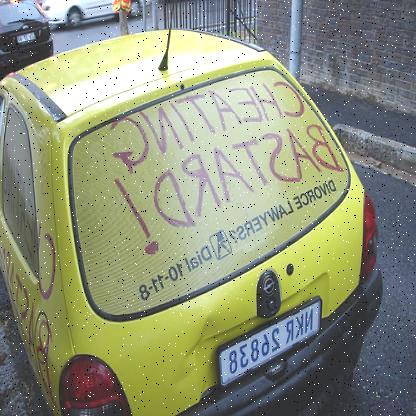car: (0, 19, 386, 415)
